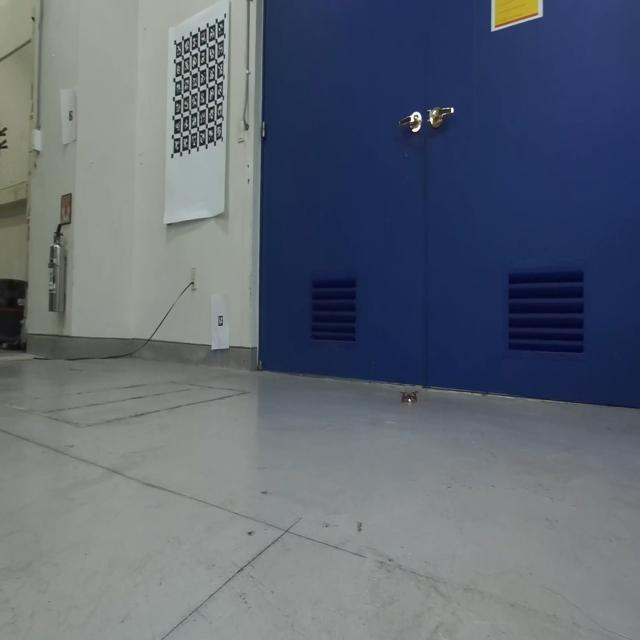crazyflie: (399, 385, 422, 411)
